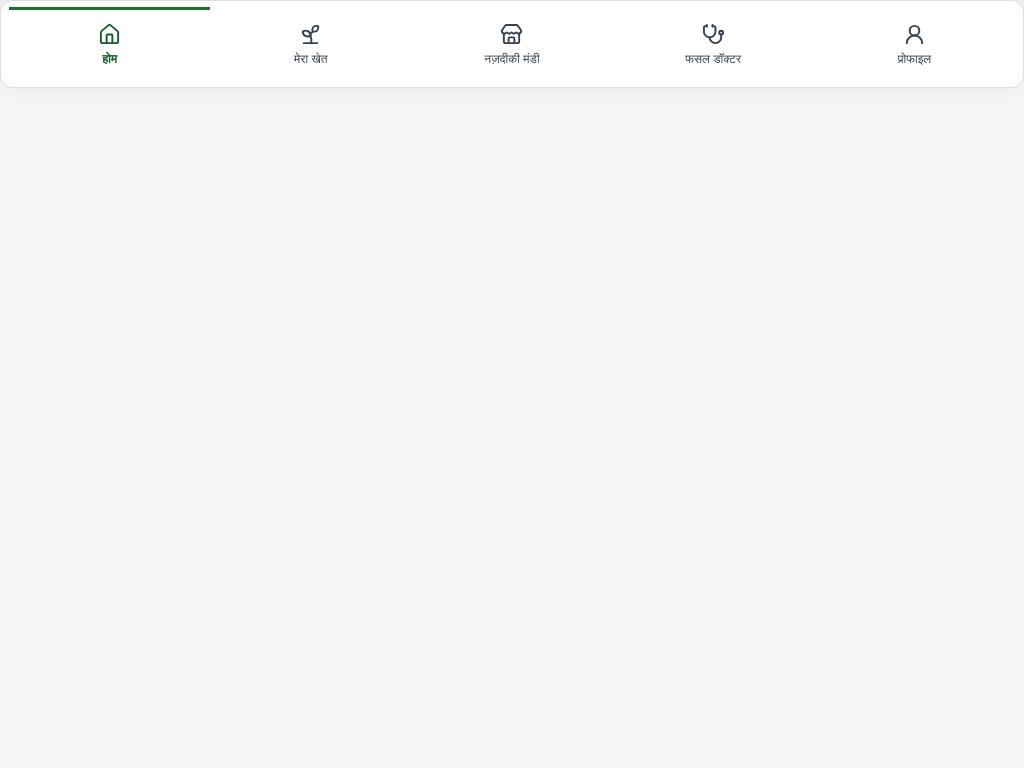
it: BottomNavigation › localizes all profile drawer content in Hindi
The width and height of the screenshot is (1024, 768).
Click the button "प्रोफाइल" at (914, 44), box [814,7,1015,81]
(page scrolled)
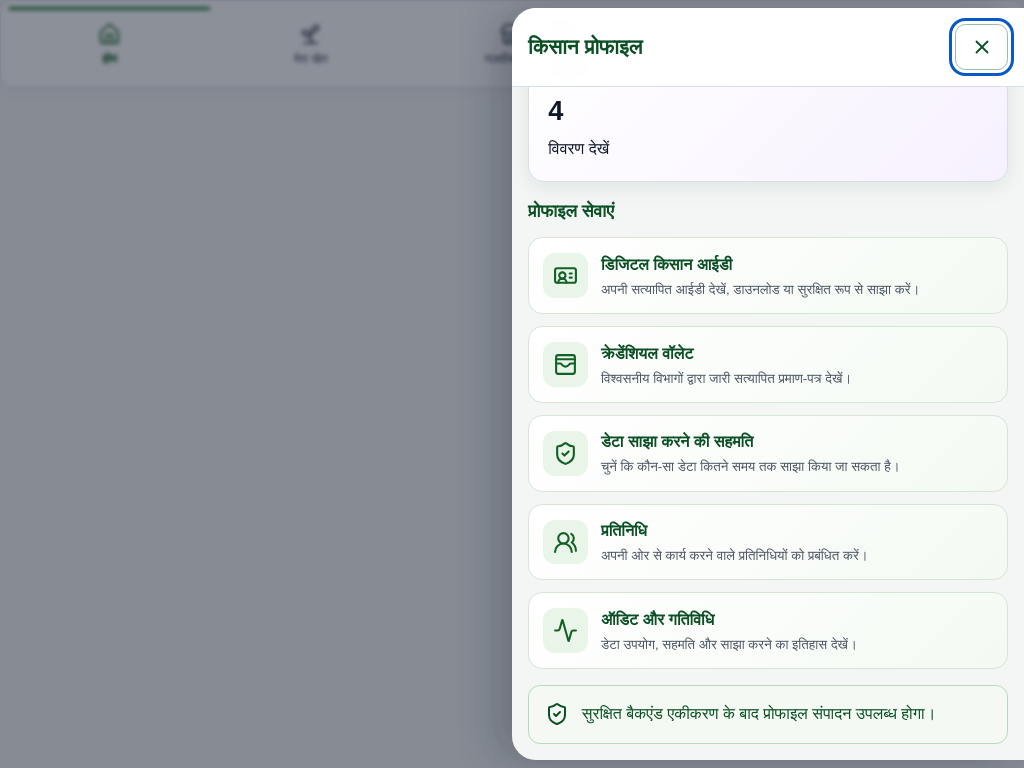
Expected: the dialog "किसान प्रोफाइल" is shown, [512,8,1023,760]
Expected: the button named "बंद करें" is shown, [955,24,1008,70]
Expected: the text "सुरक्षित बैकएंड एकीकरण के बाद प्रोफाइल संपादन उपलब्ध होगा।" is shown, [582,702,936,727]
